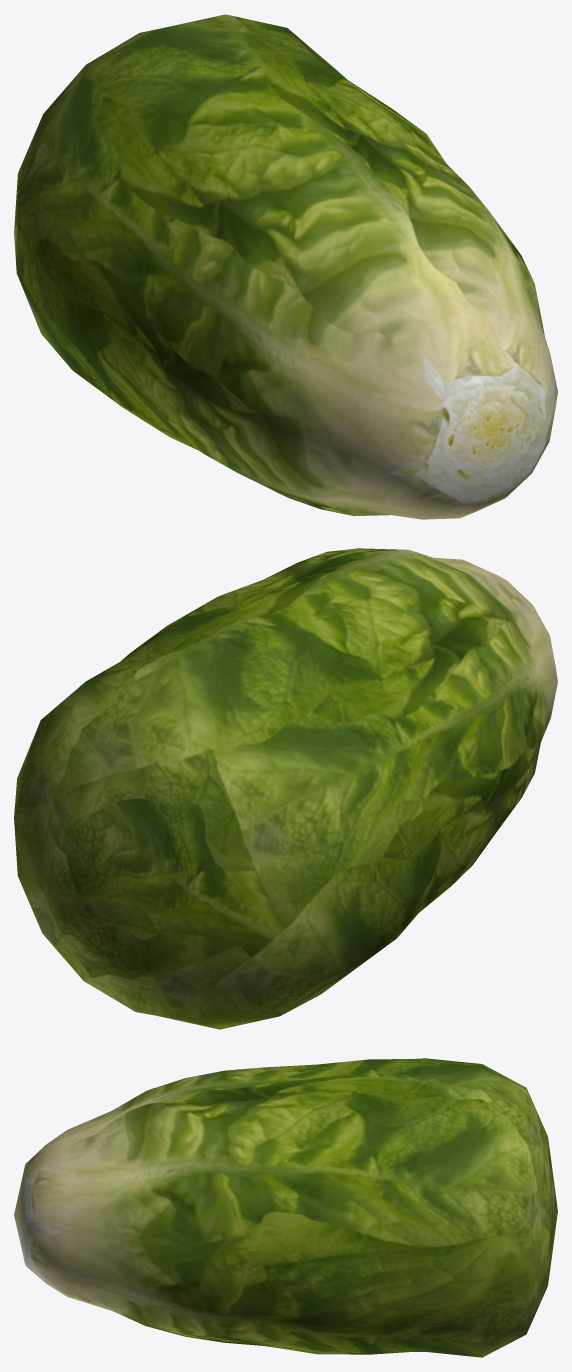
Rendered from Lettuce_16.obj.
3 views of the same model, one above another, from view 1: azimuth 30°, elevation 25°; view 2: azimuth 150°, elevation 25°; view 3: azimuth 270°, elevation 25° (orthographic). The views are drawn at different scales.
Parts seen in each view (by area): view 1: lettuce_b6; view 2: lettuce_b6; view 3: lettuce_b6.
Boxes of the visible parts, bbox=[...] form: lettuce_b6: bbox=[14, 14, 557, 519]; lettuce_b6: bbox=[14, 548, 557, 1029]; lettuce_b6: bbox=[14, 1058, 557, 1357].
Bounding box in the file's own units: 0.1151 × 0.1129 × 0.2067.
